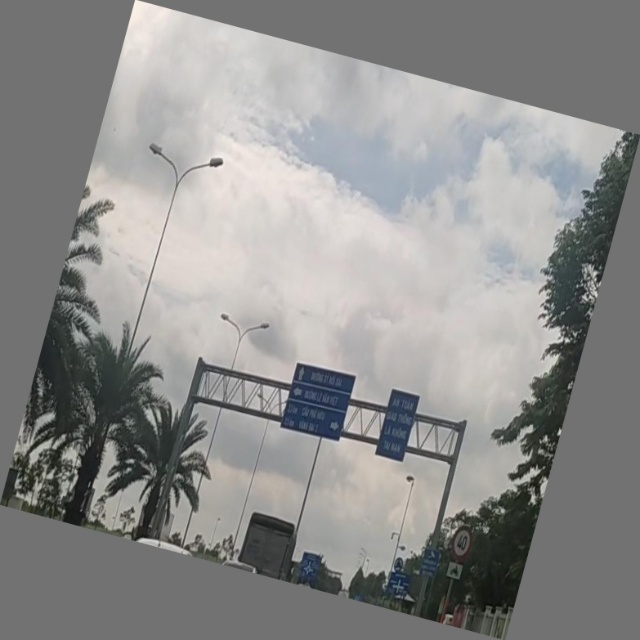P.127*40: (448, 525, 474, 561)
S.505a*Xe may: (444, 558, 466, 583)
